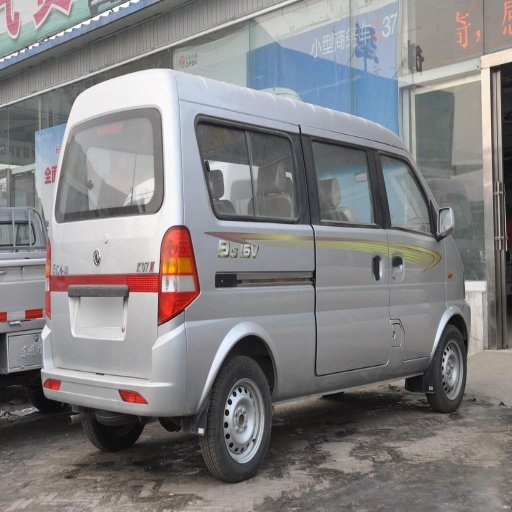back_bumper: (26, 321, 190, 415)
back_right_door: (195, 116, 311, 251), (321, 138, 387, 290)
trunk: (44, 220, 384, 410), (408, 301, 446, 355)
